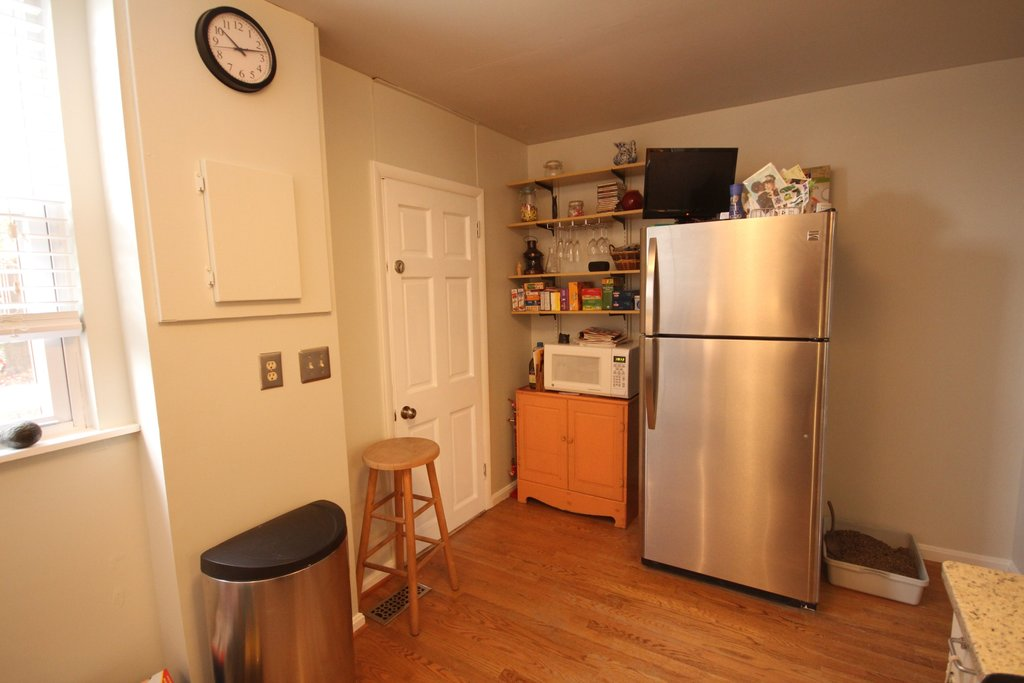cabinet door: (569, 399, 622, 497), (520, 397, 566, 476)
door: (386, 188, 479, 519)
handle: (633, 334, 662, 431), (637, 237, 659, 327), (402, 402, 422, 427)
refrigerator door: (643, 339, 813, 586), (638, 225, 830, 340)
